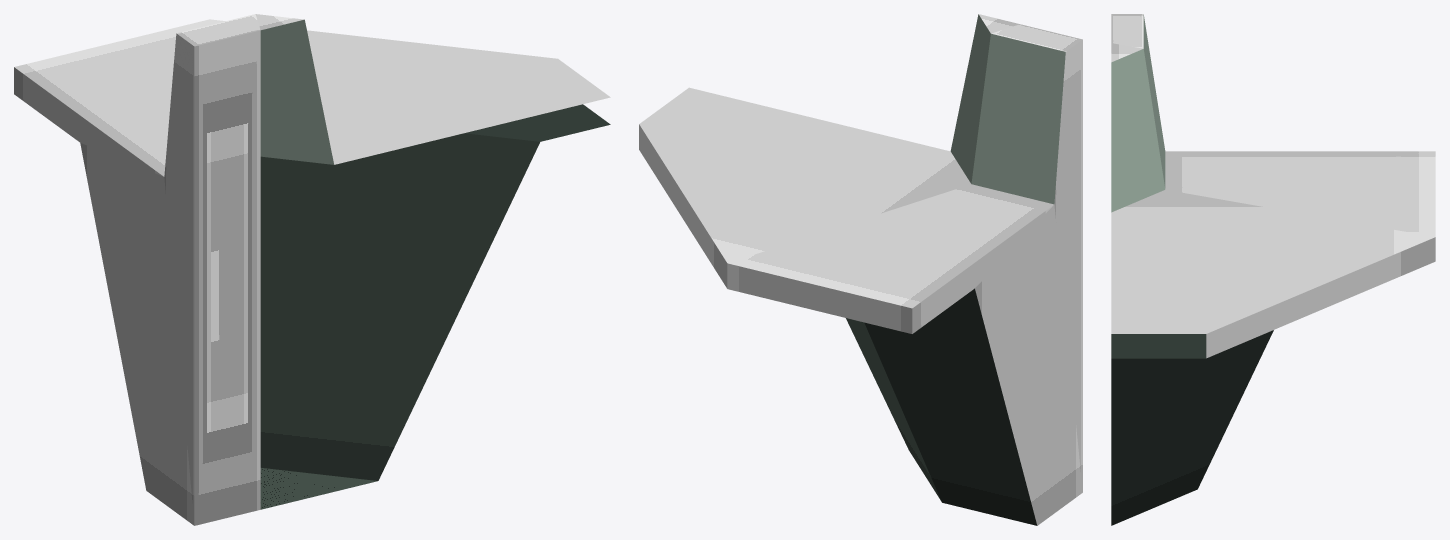
The model's file is desk_corner_outside_1_0_0.obj.
3 views of the same model, side by side, from view 1: azimuth 30°, elevation 25°; view 2: azimuth 150°, elevation 25°; view 3: azimuth 270°, elevation 25° (orthographic). The views are drawn at different scales.
Size of the model in its own units: 1 by 1.1 by 0.75.
